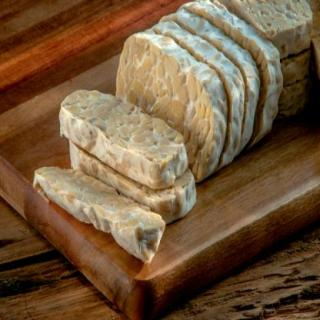Tempe: (33, 1, 320, 264)
